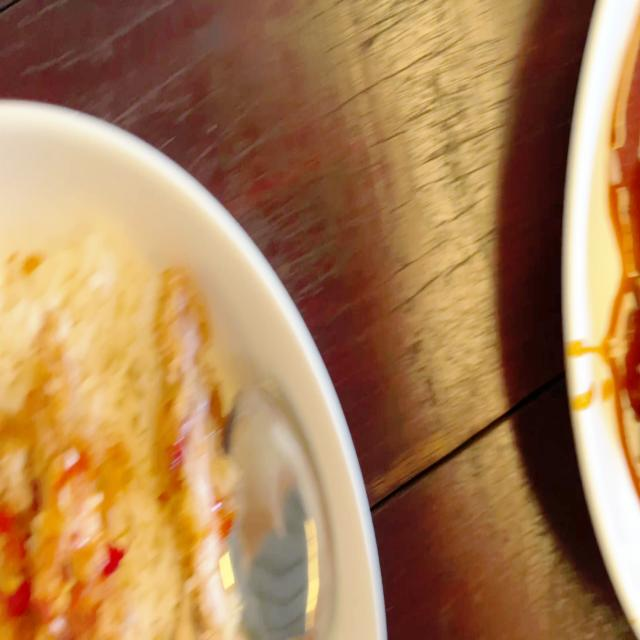chicken_rice: (0, 243, 264, 640)
fried_chicken: (4, 322, 235, 619)
